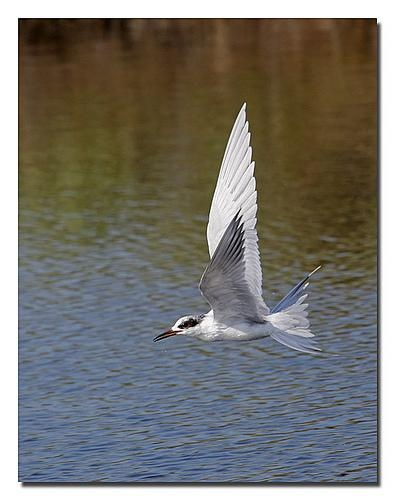bird: (153, 98, 326, 355)
